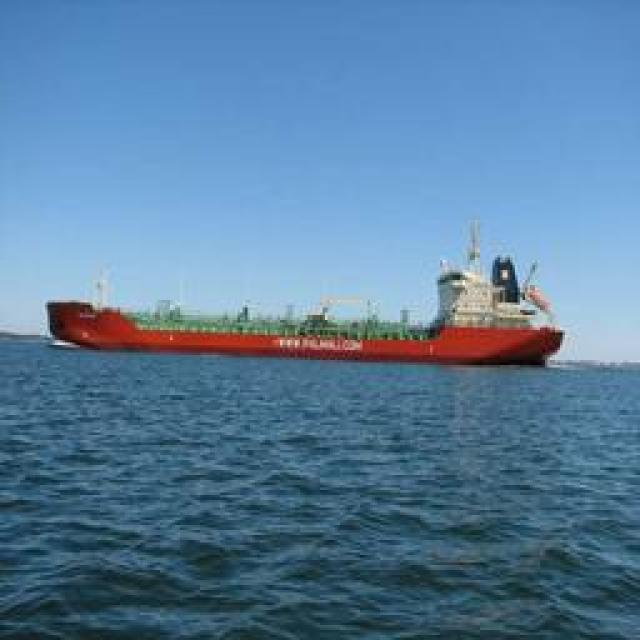ship2: (46, 218, 564, 366)
